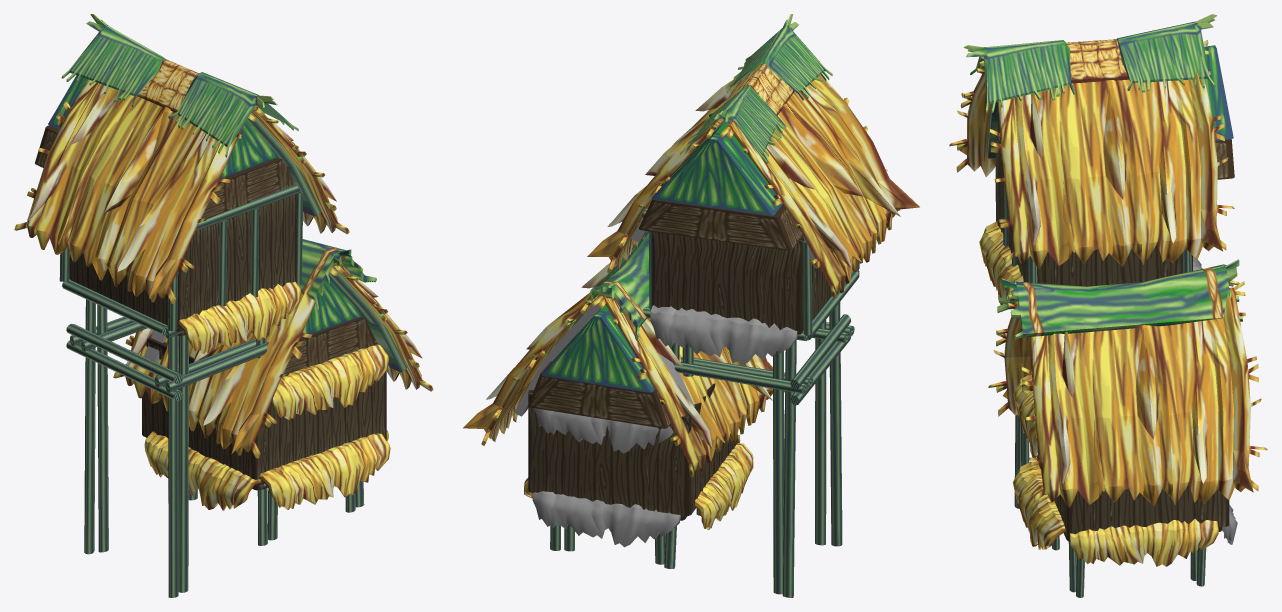
The model's file is double maison.FBX.
The picture shows the model from 3 angles, left to right: view 1: azimuth 30°, elevation 25°; view 2: azimuth 150°, elevation 25°; view 3: azimuth 270°, elevation 25°; orthographic projection.
Parts seen in each view (by area): view 1: doublemaison; view 2: doublemaison; view 3: doublemaison.
Boxes of the visible parts, bbox=[...] form: doublemaison: bbox=[14, 14, 433, 597]; doublemaison: bbox=[463, 14, 919, 597]; doublemaison: bbox=[949, 14, 1267, 597].
Size of the model in its own units: 532 by 731 by 420.
